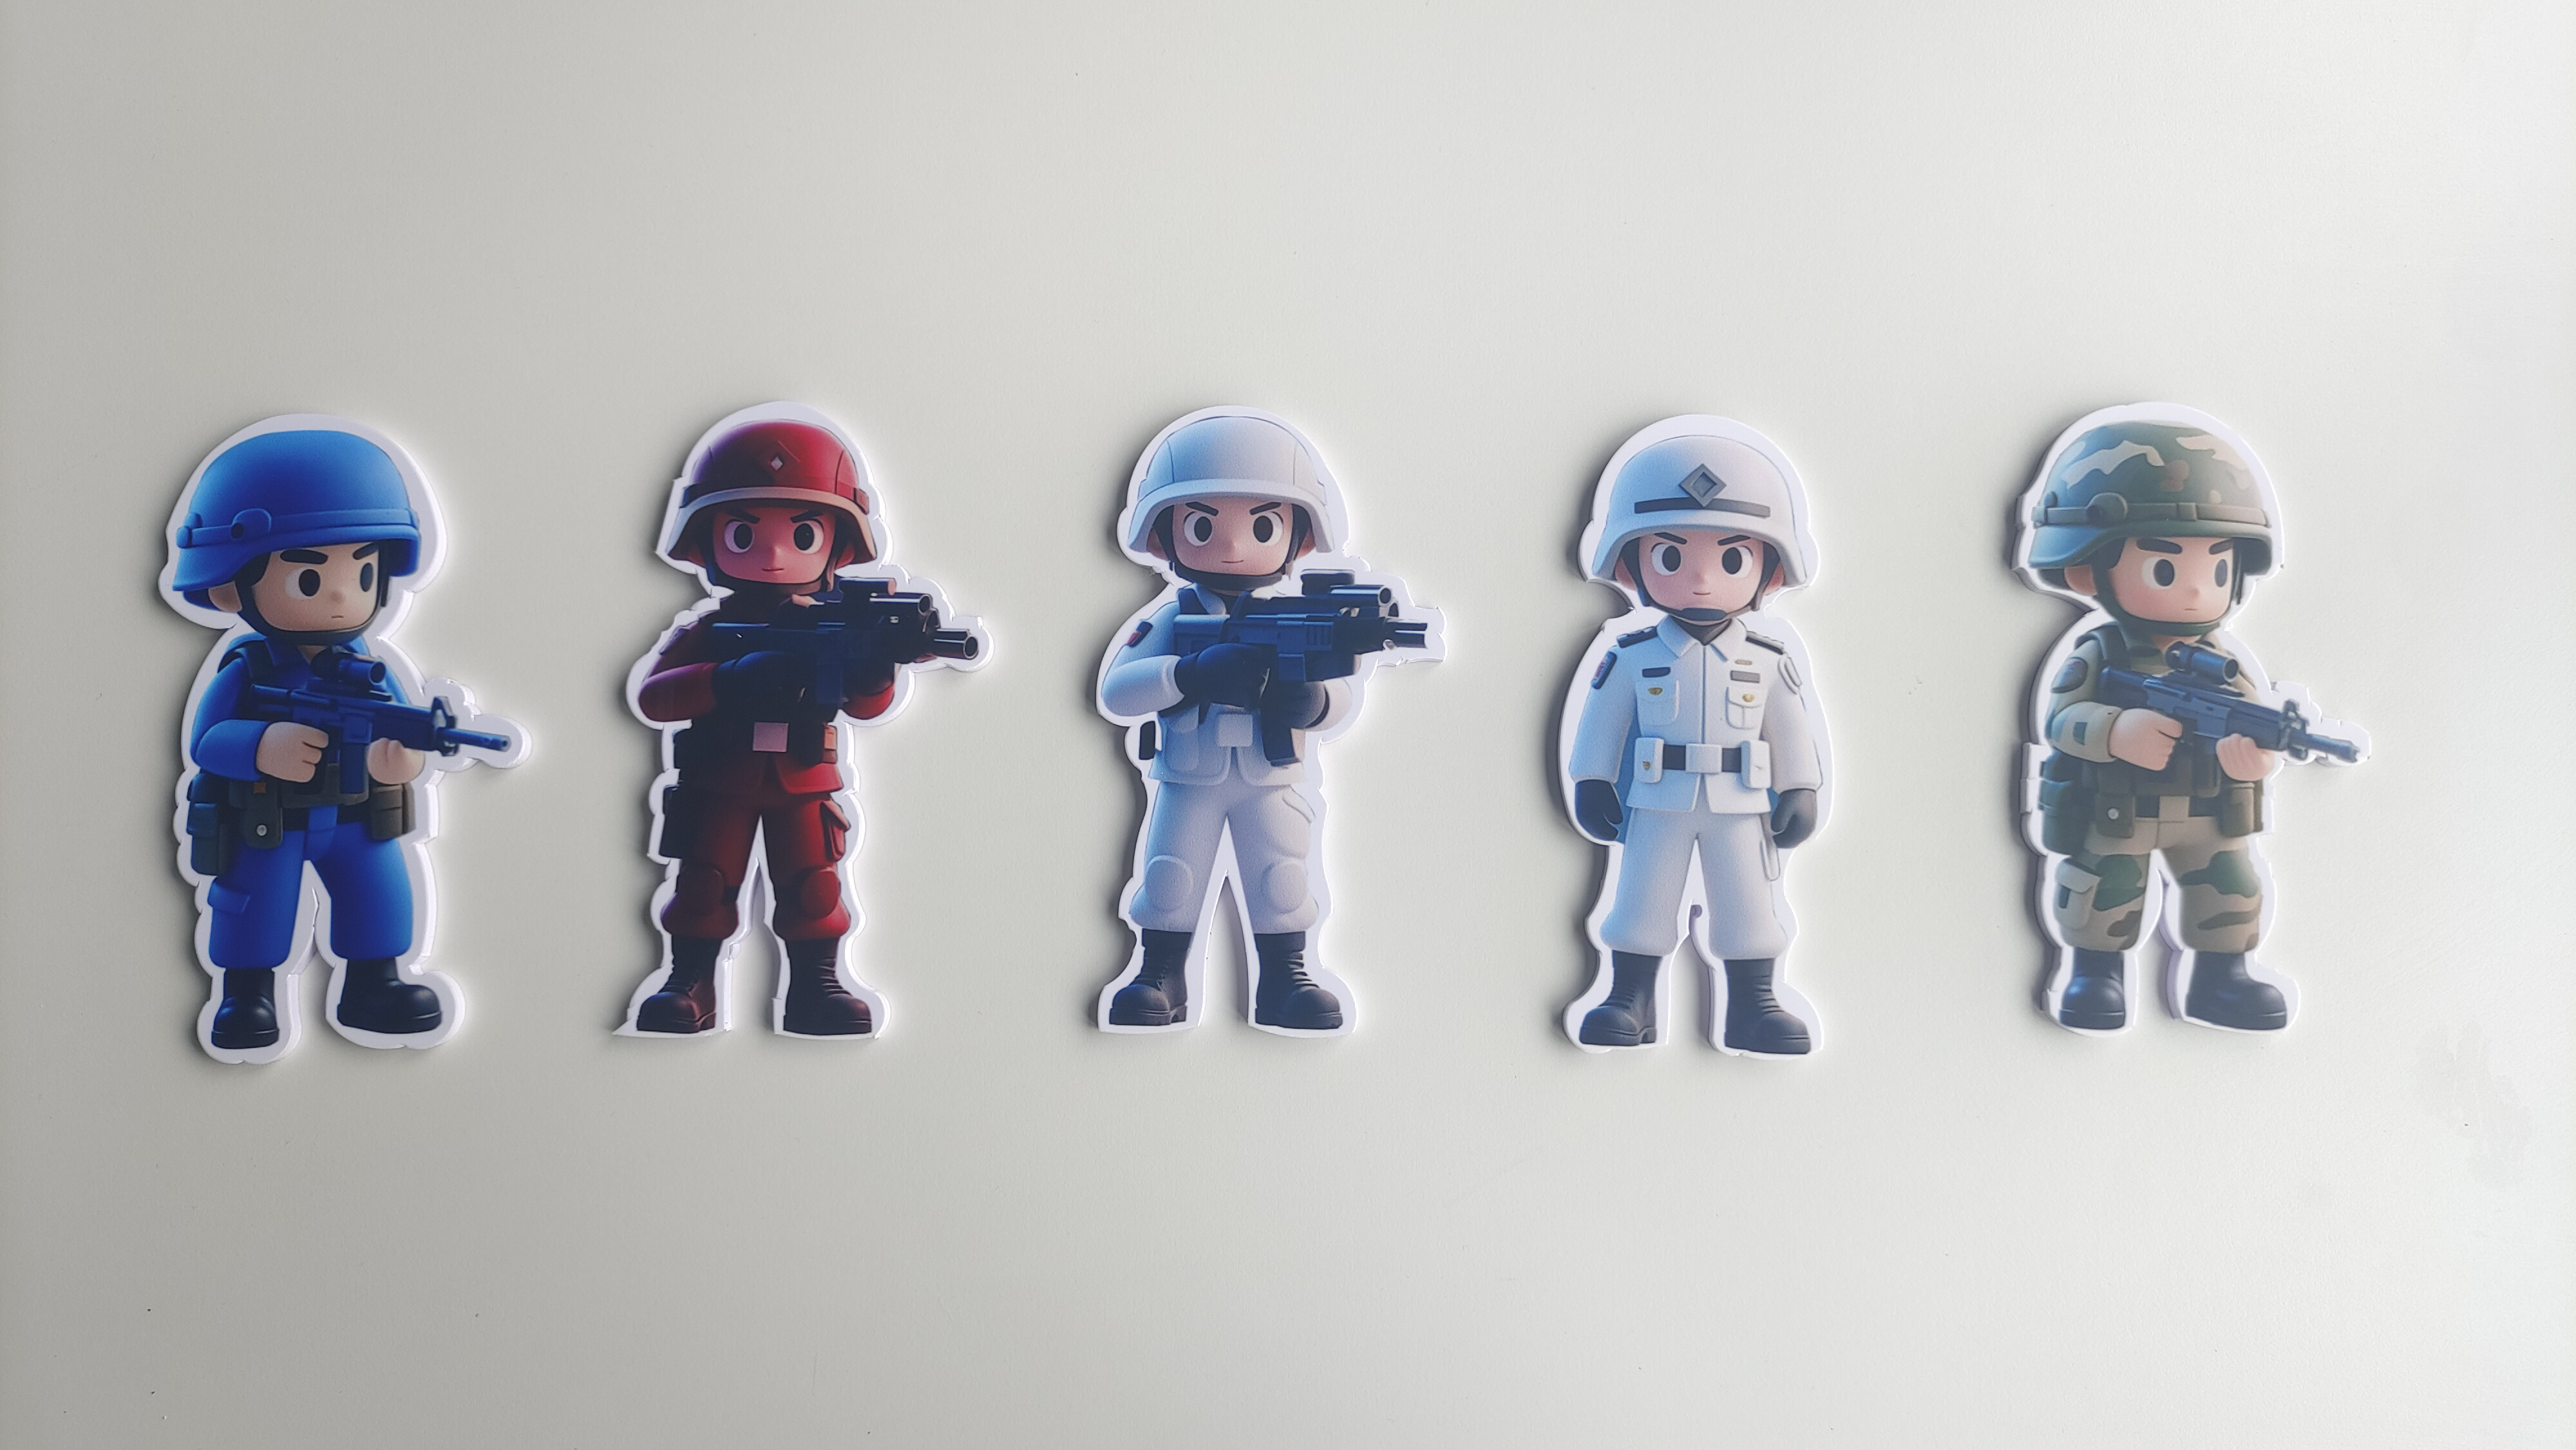enemy1: (614, 592, 908, 1050)
enemy2: (157, 635, 474, 1065)
friend: (2006, 631, 2319, 1050)
hostage: (1067, 589, 1384, 1042), (1546, 608, 1836, 1088)
